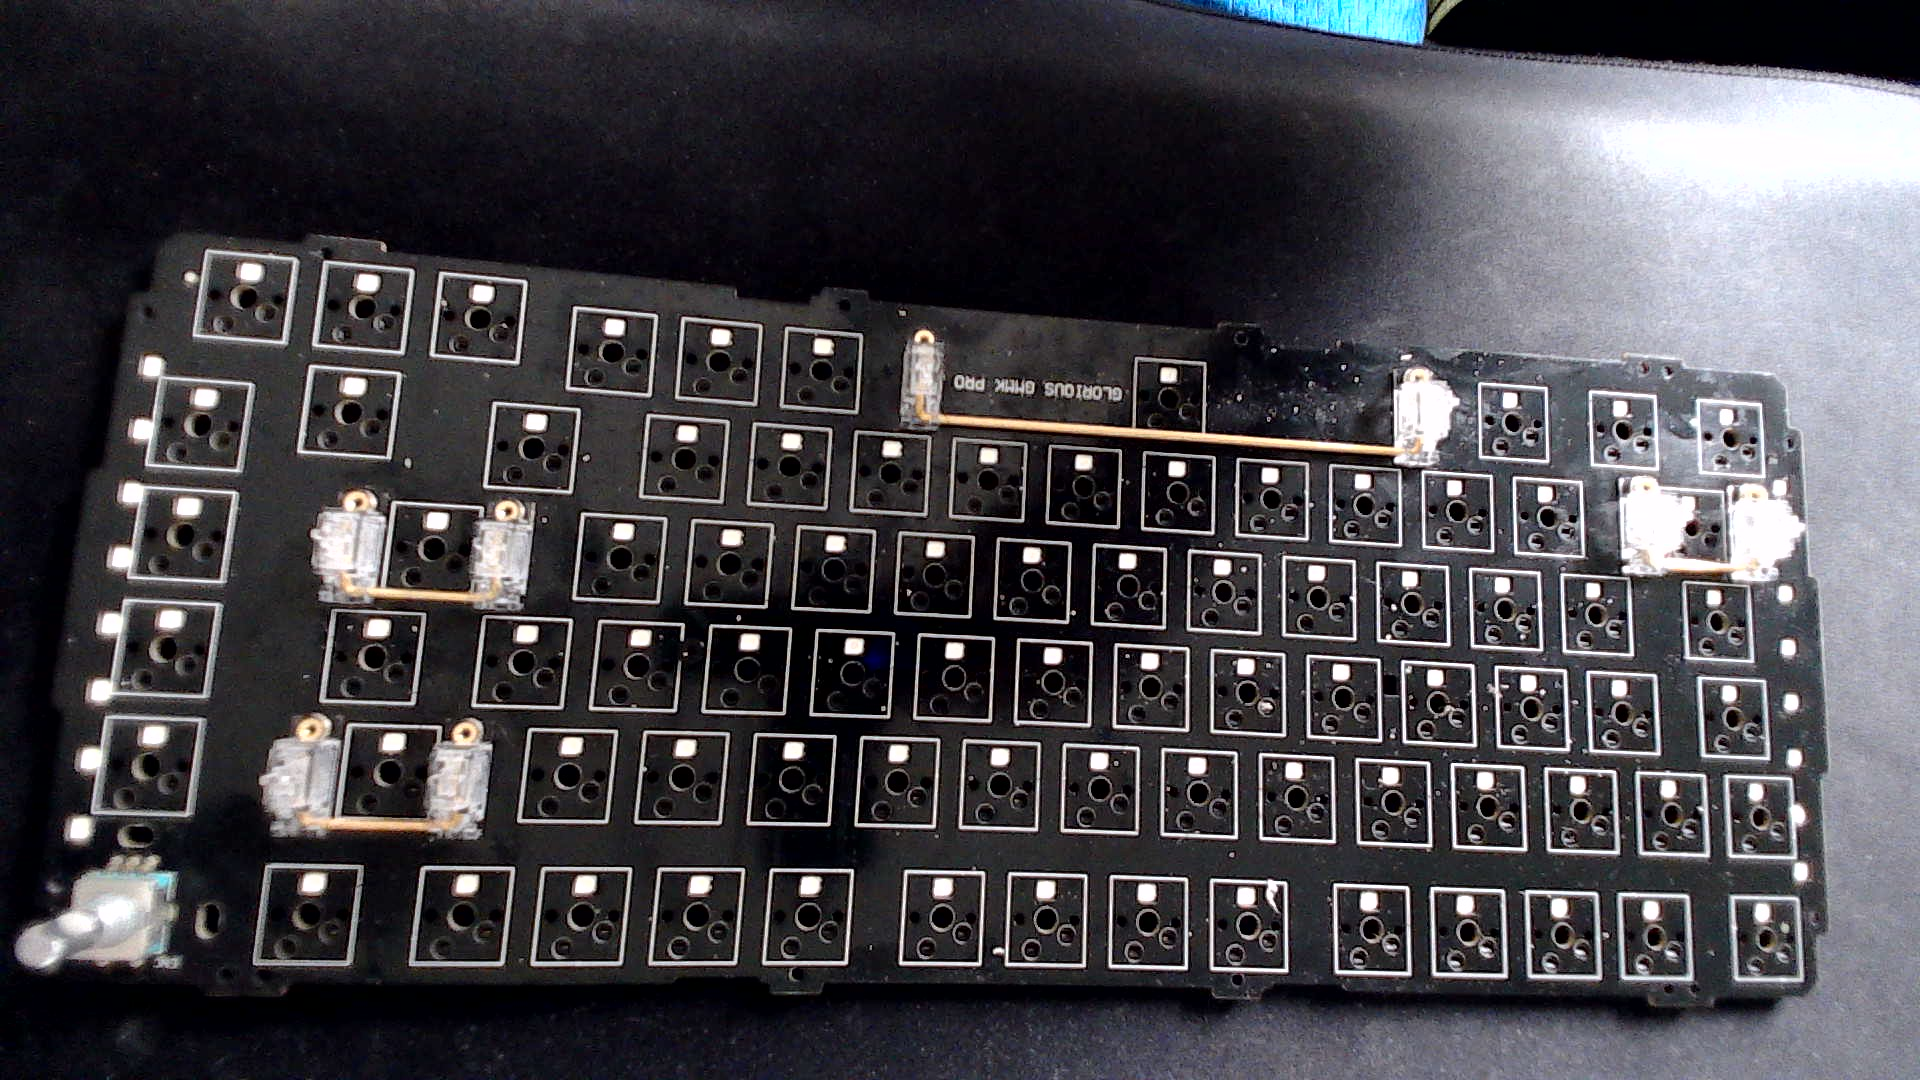pcb: (24, 193, 1876, 1044)
